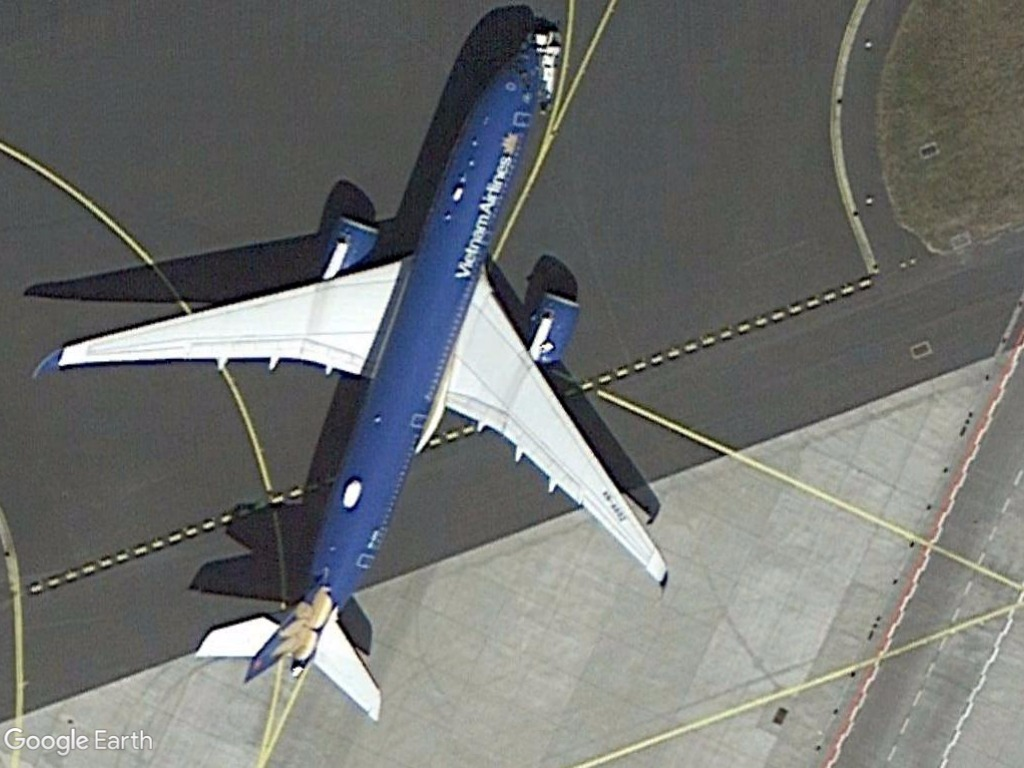airliner: (24, 8, 687, 735)
